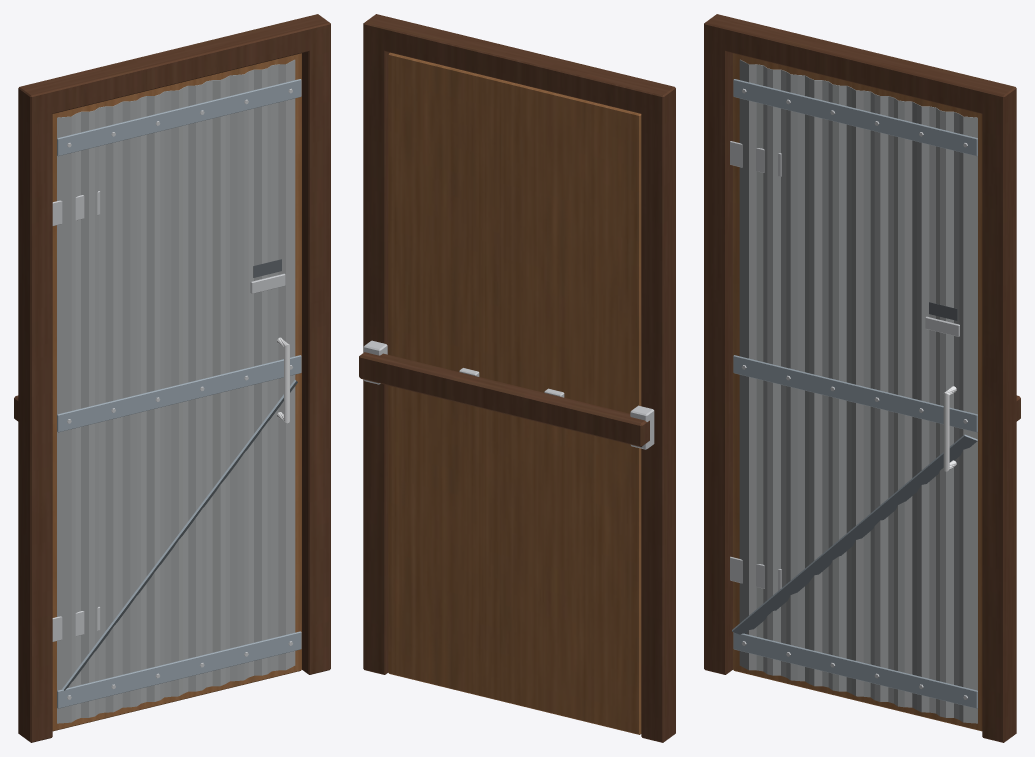
File: porta_reforcada.glb
3 renders of one model, left to right at view 1: azimuth 30°, elevation 25°; view 2: azimuth 150°, elevation 25°; view 3: azimuth 330°, elevation 25°, orthographic.
Visible parts, largest first — view 1: porta_reforcada_porta_galvanizado, porta_reforcada_madeira_escura, porta_reforcada_porta_aco_pintado, porta_reforcada_porta_madeira, porta_reforcada_porta_aco, porta_reforcada_porta_aco_polido; view 2: porta_reforcada_porta_madeira, porta_reforcada_madeira_escura, porta_reforcada_aco; view 3: porta_reforcada_porta_galvanizado, porta_reforcada_madeira_escura, porta_reforcada_porta_aco_pintado, porta_reforcada_porta_madeira, porta_reforcada_porta_aco, porta_reforcada_porta_aco_polido.
Part boxes in pixels (<box>): porta_reforcada_porta_galvanizado: <box>57,59,295,723</box>; porta_reforcada_madeira_escura: <box>14,14,330,742</box>; porta_reforcada_porta_aco_pintado: <box>57,79,301,708</box>; porta_reforcada_porta_madeira: <box>52,53,301,731</box>; porta_reforcada_porta_aco: <box>52,88,292,699</box>; porta_reforcada_porta_aco_polido: <box>277,337,289,423</box>; porta_reforcada_porta_madeira: <box>388,52,641,734</box>; porta_reforcada_madeira_escura: <box>359,14,675,742</box>; porta_reforcada_aco: <box>363,340,654,449</box>; porta_reforcada_porta_galvanizado: <box>739,59,977,723</box>; porta_reforcada_madeira_escura: <box>704,14,1020,742</box>; porta_reforcada_porta_aco_pintado: <box>732,79,977,708</box>; porta_reforcada_porta_madeira: <box>733,53,982,731</box>; porta_reforcada_porta_aco: <box>730,88,967,699</box>; porta_reforcada_porta_aco_polido: <box>943,386,956,471</box>.
Size of the model in its own units: 1.06 by 2.18 by 0.2067.
7 materials, 2 textured.
